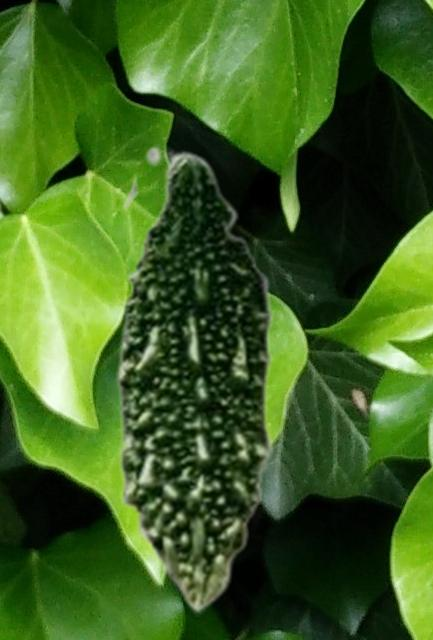ampalaya: (115, 144, 284, 615)
